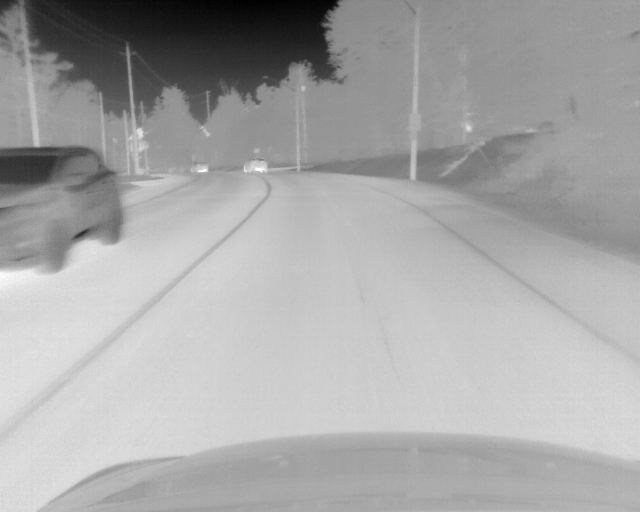car: (1, 145, 125, 274), (241, 157, 268, 174), (191, 161, 209, 175)
